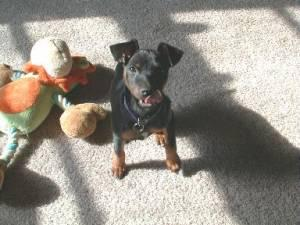dog-miniature_pinscher: (108, 37, 181, 108)
